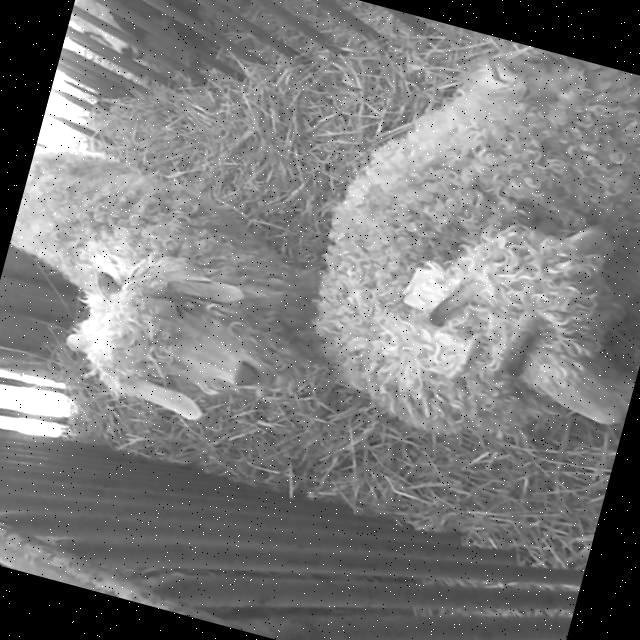sheep: (313, 38, 640, 436), (24, 149, 326, 420)
